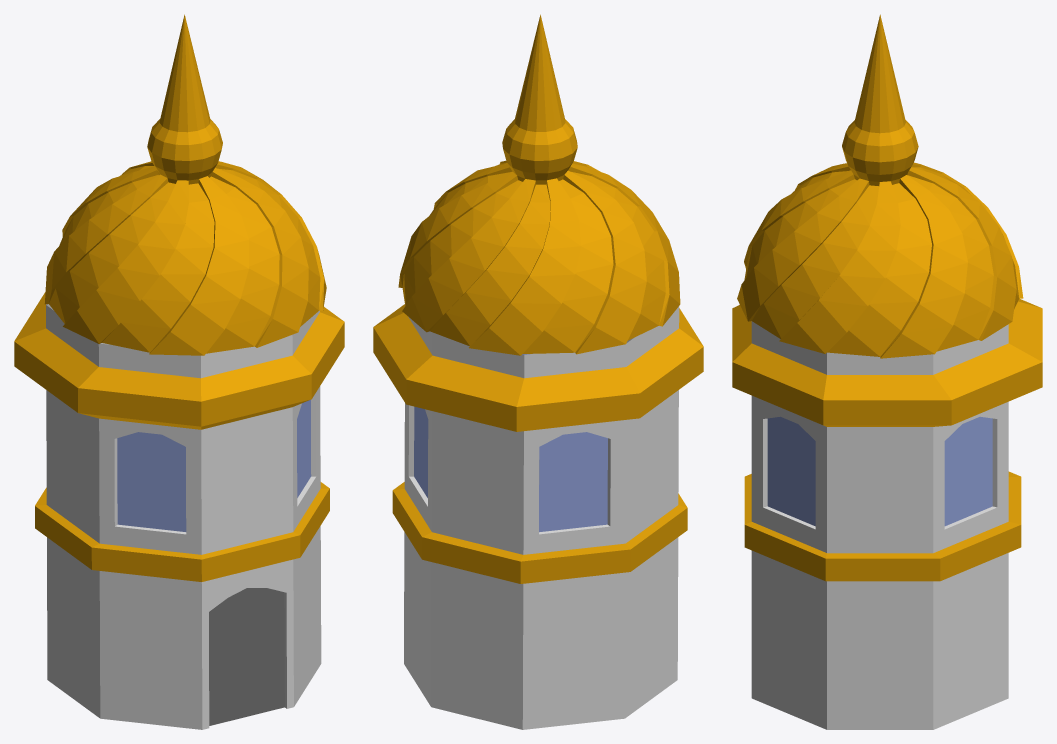
File: AetherpunkBuilding01.fbx
3 renders of one model, left to right at view 1: azimuth 30°, elevation 25°; view 2: azimuth 150°, elevation 25°; view 3: azimuth 270°, elevation 25°, orthographic.
Visible parts, largest first — view 1: Building01; view 2: Building01; view 3: Building01.
Boxes of the visible parts, box(x1,y1,x2,y2) form: Building01: box(14, 14, 344, 729); Building01: box(373, 14, 703, 729); Building01: box(732, 14, 1042, 729).
Size of the model in its own units: 223 by 526 by 223.
